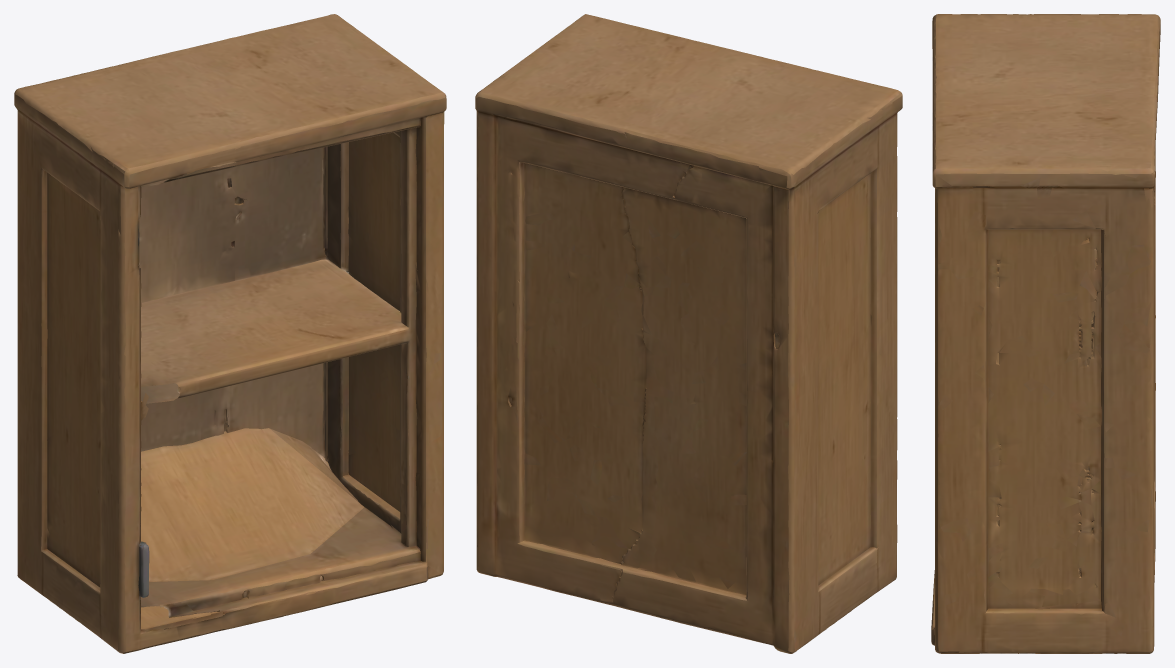
3 renders of one model, left to right at view 1: azimuth 30°, elevation 25°; view 2: azimuth 150°, elevation 25°; view 3: azimuth 270°, elevation 25°, orthographic.
Visible parts, largest first — view 1: world; view 2: world; view 3: world.
Part boxes in pixels (box(x1,y1,x2,y2)): world: box(14, 14, 446, 653); world: box(475, 14, 902, 653); world: box(931, 14, 1160, 653).
Bounding box in the file's own units: 0.5523 × 0.8 × 0.3395.
1 material, 1 textured.
